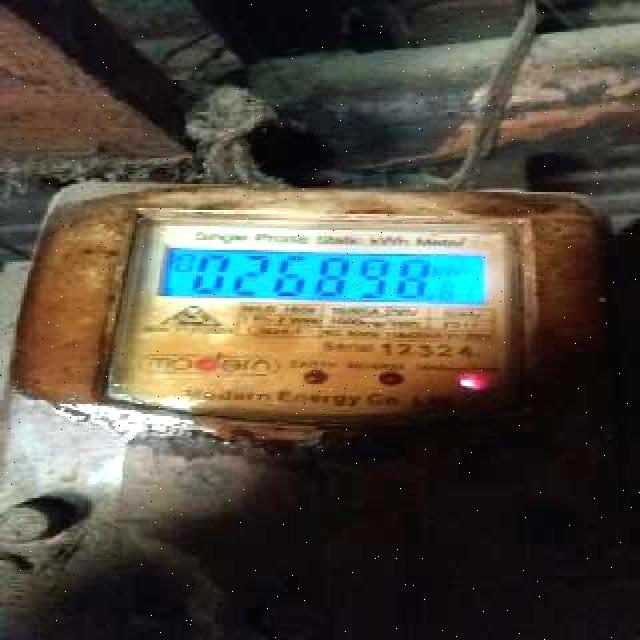LCD: (145, 231, 500, 322)
